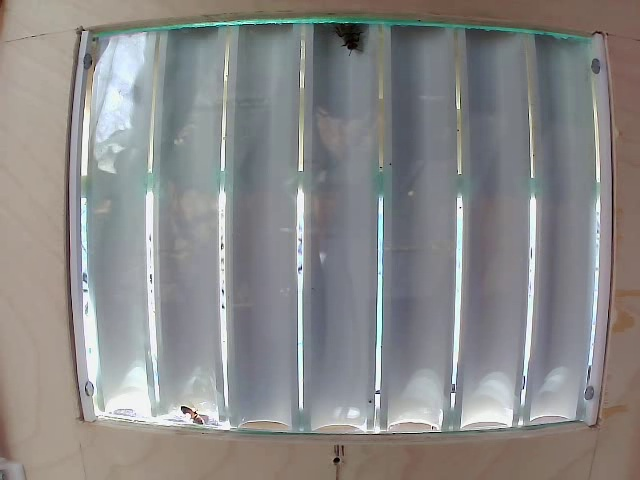bee: (333, 13, 370, 61)
